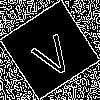V: (24, 24, 78, 81)
